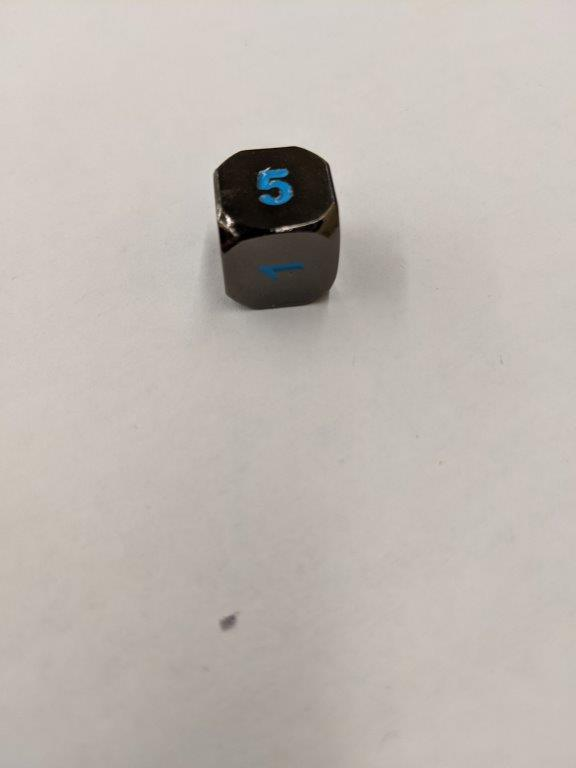d6-5: (212, 145, 342, 310)
